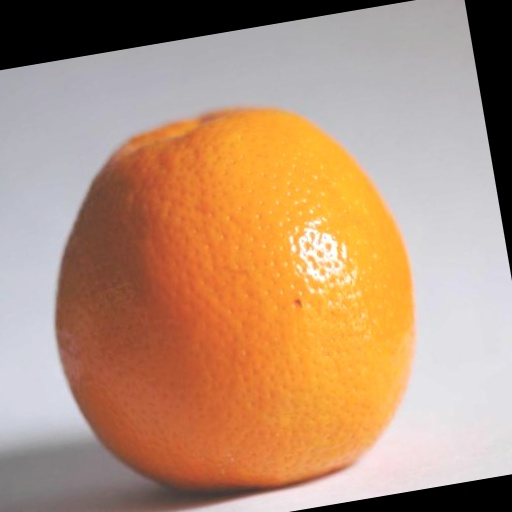fruit: (55, 109, 413, 490)
